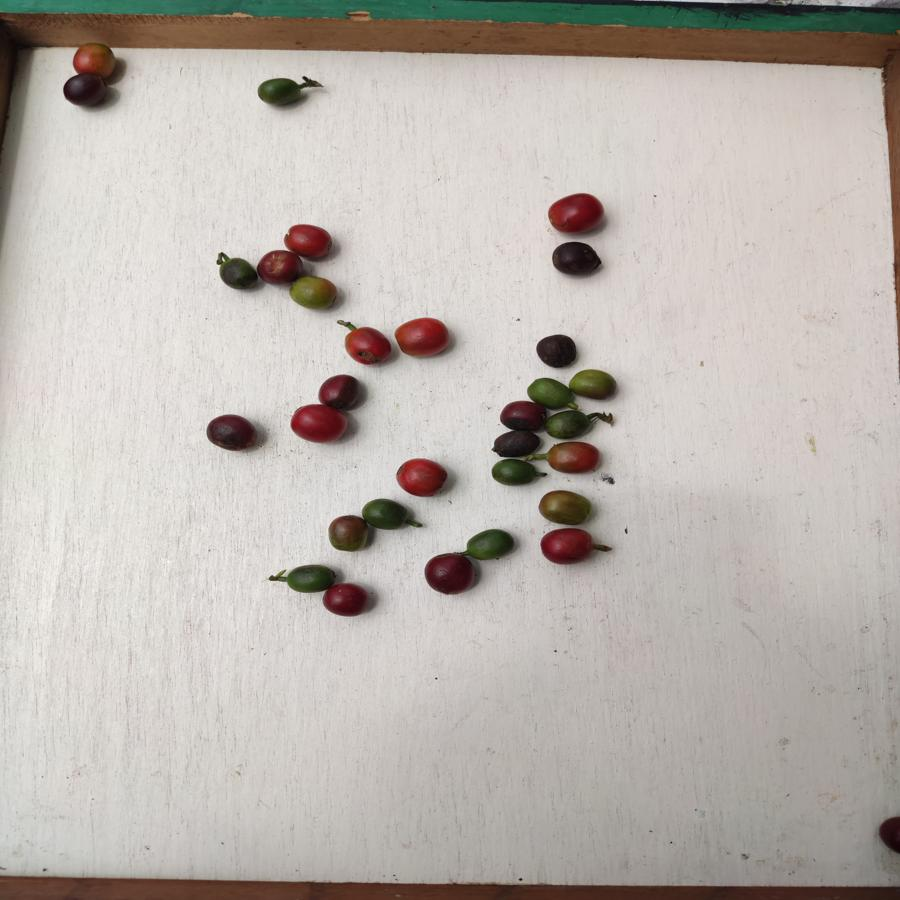Inmaduro: (463, 528, 516, 561), (280, 563, 336, 592), (570, 367, 615, 403), (363, 498, 408, 534), (254, 76, 307, 106), (218, 255, 255, 294), (548, 408, 594, 438), (527, 376, 570, 407), (490, 459, 539, 485)
Maduro: (286, 404, 350, 445), (393, 315, 454, 358), (391, 457, 450, 501), (546, 193, 606, 235), (538, 526, 599, 566), (344, 327, 393, 367), (70, 43, 121, 76), (284, 223, 333, 255)
Pinton: (537, 486, 592, 523), (289, 277, 344, 310), (544, 442, 599, 474), (329, 514, 367, 553)
Sobremaduro: (203, 413, 260, 455), (423, 553, 476, 596), (548, 240, 604, 280), (62, 71, 111, 111), (315, 373, 361, 410), (323, 583, 370, 619), (534, 333, 579, 368), (257, 249, 300, 280), (492, 431, 540, 458), (498, 402, 545, 427)
